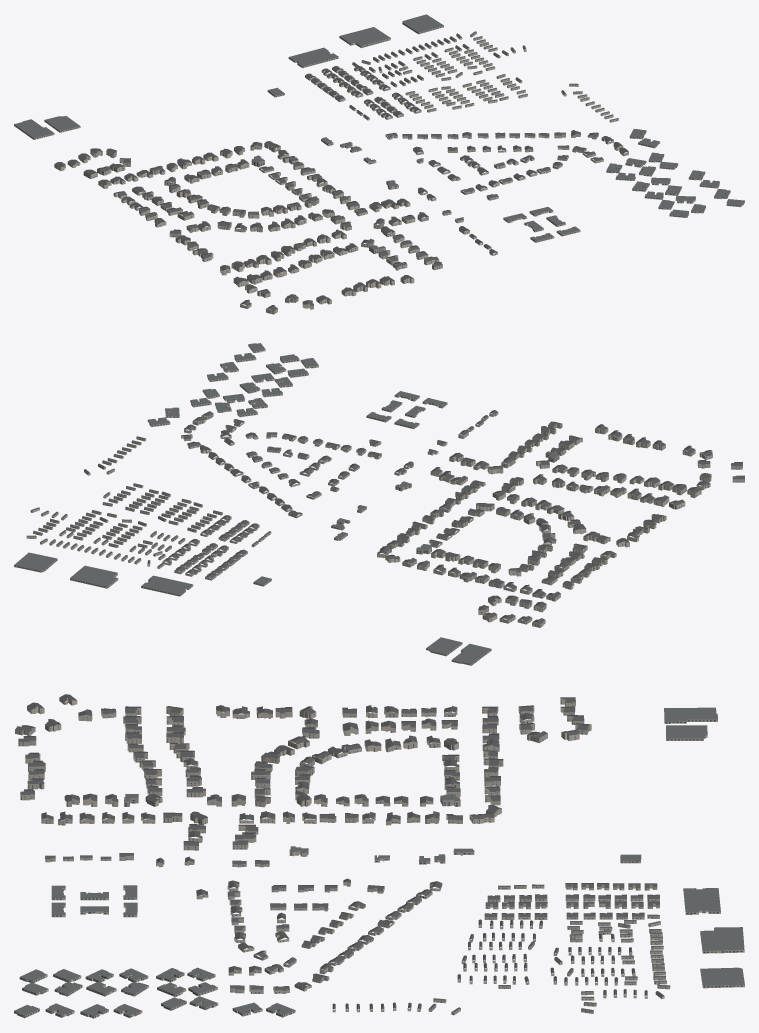
3 views of the same model, one above another, from view 1: azimuth 30°, elevation 25°; view 2: azimuth 150°, elevation 25°; view 3: azimuth 270°, elevation 25° (orthographic). The views are drawn at different scales.
Parts seen in each view (by area): view 1: Buildings (2, 3) Roof shingles, Buildings (2, 3) Masonry brick, Buildings (2, 3) House siding, Buildings (2, 3) Roof membrane, Buildings (2, 3) Architectural tinted glass; view 2: Buildings (2, 3) Roof shingles, Buildings (2, 3) Masonry brick, Buildings (2, 3) House siding, Buildings (2, 3) Roof membrane, Buildings (2, 3) Architectural tinted glass; view 3: Buildings (2, 3) Roof shingles, Buildings (2, 3) Masonry brick, Buildings (2, 3) Roof membrane, Buildings (2, 3) House siding, Buildings (2, 3) Architectural tinted glass, Buildings (2, 3) Window trim.
Boxes of the visible parts, x1,y1,x2,y2 form: Buildings (2, 3) Roof shingles: [55, 31, 628, 310]; Buildings (2, 3) Masonry brick: [14, 22, 744, 314]; Buildings (2, 3) House siding: [67, 39, 628, 309]; Buildings (2, 3) Roof membrane: [14, 14, 744, 249]; Buildings (2, 3) Architectural tinted glass: [14, 23, 743, 313]; Buildings (2, 3) Roof shingles: [26, 410, 744, 624]; Buildings (2, 3) Masonry brick: [14, 346, 744, 665]; Buildings (2, 3) House siding: [38, 414, 712, 624]; Buildings (2, 3) Roof membrane: [14, 343, 558, 663]; Buildings (2, 3) Architectural tinted glass: [14, 345, 742, 664]; Buildings (2, 3) Roof shingles: [15, 694, 669, 1012]; Buildings (2, 3) Masonry brick: [14, 697, 744, 1018]; Buildings (2, 3) Roof membrane: [14, 708, 744, 1016]; Buildings (2, 3) House siding: [15, 707, 665, 1011]; Buildings (2, 3) Architectural tinted glass: [14, 700, 742, 1017]; Buildings (2, 3) Window trim: [16, 702, 662, 1011].
Bounding box in the file's own units: 1016 × 15.4 × 988.
